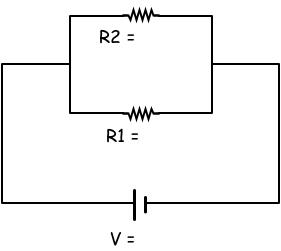Battery: (110, 182, 165, 221)
